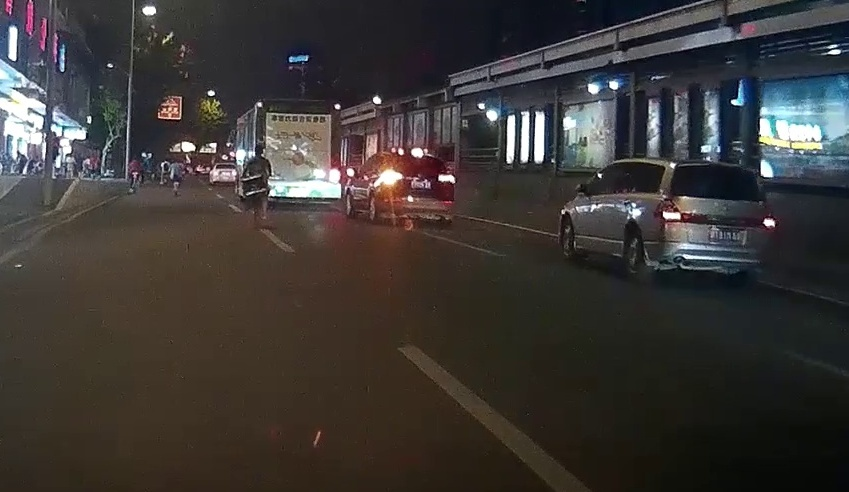L_light: (655, 200, 686, 223), (380, 172, 403, 183)
R_light: (760, 212, 776, 230), (439, 173, 455, 184)
T_light: (712, 162, 733, 169), (411, 150, 424, 156)
night-left: (373, 150, 457, 227)
night-no: (651, 159, 777, 289)
